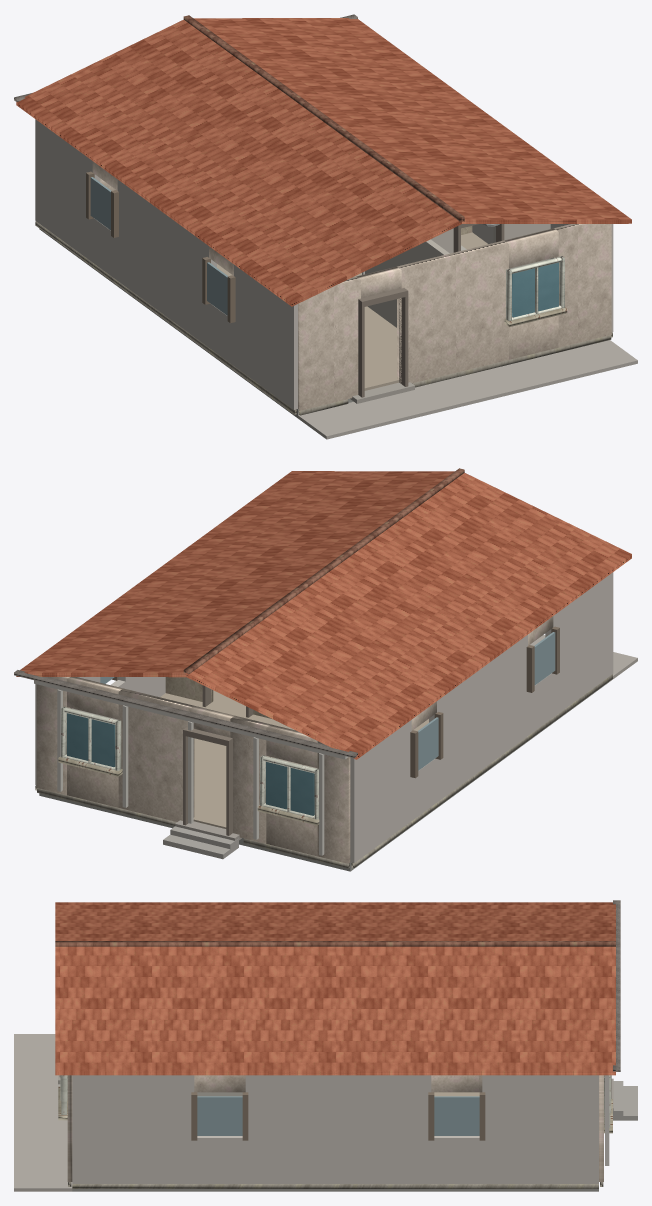
File: HAB_351_Z2_R15_SHARED_PBR_CANDIDATO.gltf
The picture shows the model from 3 angles, top to bottom: view 1: azimuth 30°, elevation 25°; view 2: azimuth 150°, elevation 25°; view 3: azimuth 270°, elevation 25°; orthographic projection.
Parts seen in each view (by area): view 1: HAB_351_COBERTURA_AGUA_ESQ, HAB_351_COBERTURA_AGUA_DIR, HAB_351_FACHADA_FUNDOS_TRECHO_2, HAB_351_FUNDOS_PATIO_SERVICO, HAB_351_LATERAL_ESQ_TRECHO_2, HAB_351_FACHADA_FUNDOS_TRECHO_0, HAB_351_LATERAL_ESQ_TRECHO_4, HAB_351_FACHADA_FUNDOS_TRECHO_4, HAB_351_LATERAL_ESQ_TRECHO_0, HAB_351_REV26_ARREMATE_EMBASAMENTO, HAB_351_PISO_INTERNO, HAB_351_COBERTURA_CUMEEIRA (+13 smaller); view 2: HAB_351_COBERTURA_AGUA_ESQ, HAB_351_COBERTURA_AGUA_DIR, HAB_351_LATERAL_ESQ_TRECHO_2, HAB_351_FACHADA_FRENTE_TRECHO_4, HAB_351_LATERAL_ESQ_TRECHO_0, HAB_351_LATERAL_ESQ_TRECHO_4, HAB_351_PISO_INTERNO, HAB_351_FACHADA_FRENTE_TRECHO_0, HAB_351_FACHADA_FRENTE_TRECHO_2, HAB_351_REV26_ARREMATE_EMBASAMENTO, HAB_351_FACHADA_FRENTE_TRECHO_6, HAB_351_COBERTURA_CUMEEIRA (+23 smaller); view 3: HAB_351_COBERTURA_AGUA_DIR, HAB_351_COBERTURA_AGUA_ESQ, HAB_351_LATERAL_DIR_TRECHO_2, HAB_351_LATERAL_DIR_TRECHO_4, HAB_351_LATERAL_DIR_TRECHO_0, HAB_351_FUNDOS_PATIO_SERVICO, HAB_351_COBERTURA_CUMEEIRA, HAB_351_REV26_ARREMATE_EMBASAMENTO, HAB_351_LATERAL_DIR_BASE_3, HAB_351_LATERAL_DIR_BASE_1, HAB_351_LATERAL_1_0_VIDRO, HAB_351_LATERAL_1_1_VIDRO (+9 smaller).
Boxes of the visible parts, x1,y1,x2,y2 form: HAB_351_COBERTURA_AGUA_ESQ: (16,19,461,306); HAB_351_COBERTURA_AGUA_DIR: (194,18,631,223); HAB_351_FACHADA_FUNDOS_TRECHO_2: (397,240,508,383); HAB_351_FUNDOS_PATIO_SERVICO: (298,340,637,439); HAB_351_LATERAL_ESQ_TRECHO_2: (117,179,216,347); HAB_351_FACHADA_FUNDOS_TRECHO_0: (298,276,360,410); HAB_351_LATERAL_ESQ_TRECHO_4: (234,265,297,409); HAB_351_FACHADA_FUNDOS_TRECHO_4: (554,224,611,347); HAB_351_LATERAL_ESQ_TRECHO_0: (35,119,100,262); HAB_351_REV26_ARREMATE_EMBASAMENTO: (35,221,612,415); HAB_351_PISO_INTERNO: (217,232,487,390); HAB_351_COBERTURA_CUMEEIRA: (183,15,464,222); HAB_351_COBERTURA_AGUA_ESQ: (186,472,631,759); HAB_351_COBERTURA_AGUA_DIR: (16,471,454,677); HAB_351_LATERAL_ESQ_TRECHO_2: (429,635,527,802); HAB_351_FACHADA_FRENTE_TRECHO_4: (118,688,194,821); HAB_351_LATERAL_ESQ_TRECHO_0: (350,720,411,862); HAB_351_LATERAL_ESQ_TRECHO_4: (545,572,613,716); HAB_351_PISO_INTERNO: (160,690,428,828); HAB_351_FACHADA_FRENTE_TRECHO_0: (317,741,350,863); HAB_351_FACHADA_FRENTE_TRECHO_2: (230,715,270,843); HAB_351_REV26_ARREMATE_EMBASAMENTO: (35,674,612,868); HAB_351_FACHADA_FRENTE_TRECHO_6: (36,677,71,795); HAB_351_COBERTURA_CUMEEIRA: (183,468,464,675); HAB_351_COBERTURA_AGUA_DIR: (55,946,615,1075); HAB_351_COBERTURA_AGUA_ESQ: (55,902,615,940); HAB_351_LATERAL_DIR_TRECHO_2: (245,1075,431,1183); HAB_351_LATERAL_DIR_TRECHO_4: (72,1075,194,1183); HAB_351_LATERAL_DIR_TRECHO_0: (482,1075,598,1183); HAB_351_FUNDOS_PATIO_SERVICO: (14,1034,72,1191); HAB_351_COBERTURA_CUMEEIRA: (55,941,615,946); HAB_351_REV26_ARREMATE_EMBASAMENTO: (68,1182,603,1188); HAB_351_LATERAL_DIR_BASE_3: (194,1136,245,1183); HAB_351_LATERAL_DIR_BASE_1: (431,1136,482,1183); HAB_351_LATERAL_1_0_VIDRO: (434,1096,479,1135); HAB_351_LATERAL_1_1_VIDRO: (197,1096,242,1135).
Bounding box in the file's own units: 8.2 × 3.89 × 12.8.
9 materials, 9 textured.
